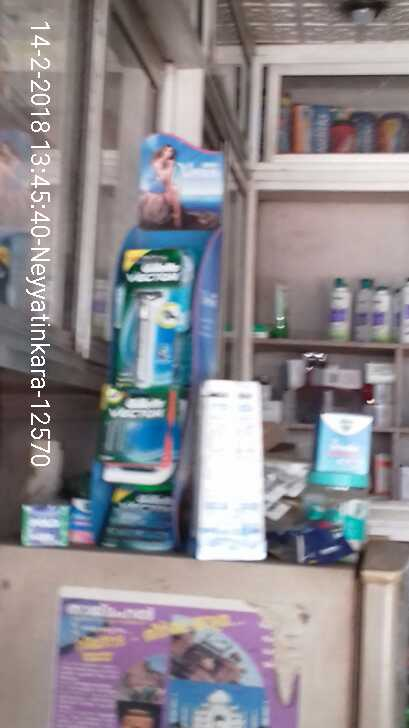gillette: (108, 238, 195, 383), (93, 391, 184, 474)
